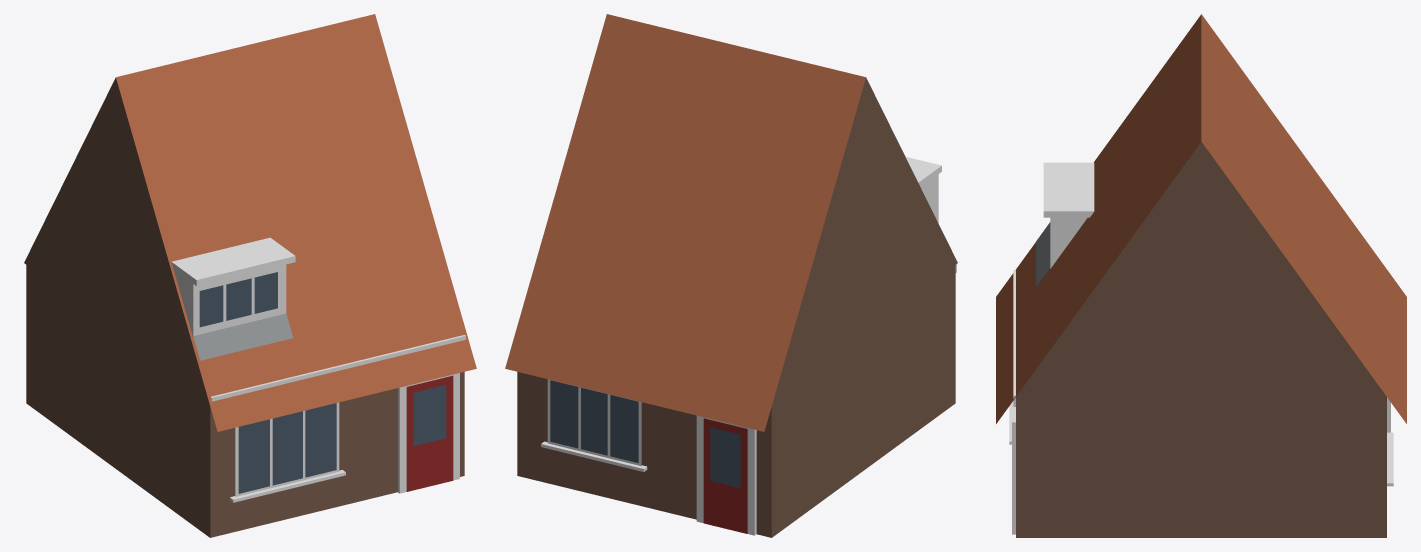
File: nd-to-cottage__red-door__2__gable__long__solid__f0d0__mirror.glb
The picture shows the model from 3 angles, left to right: view 1: azimuth 30°, elevation 25°; view 2: azimuth 150°, elevation 25°; view 3: azimuth 270°, elevation 25°; orthographic projection.
Parts seen in each view (by area): view 1: nd-to-cottage__red-door__2__gable__long__solid__f0d0__mirror; view 2: nd-to-cottage__red-door__2__gable__long__solid__f0d0__mirror; view 3: nd-to-cottage__red-door__2__gable__long__solid__f0d0__mirror.
Part boxes in pixels (box(x1,y1,x2,y2)): nd-to-cottage__red-door__2__gable__long__solid__f0d0__mirror: box(24, 14, 476, 537); nd-to-cottage__red-door__2__gable__long__solid__f0d0__mirror: box(505, 14, 957, 537); nd-to-cottage__red-door__2__gable__long__solid__f0d0__mirror: box(996, 14, 1406, 537).
Bounding box in the file's own units: 5.29 × 7.68 × 7.19.
